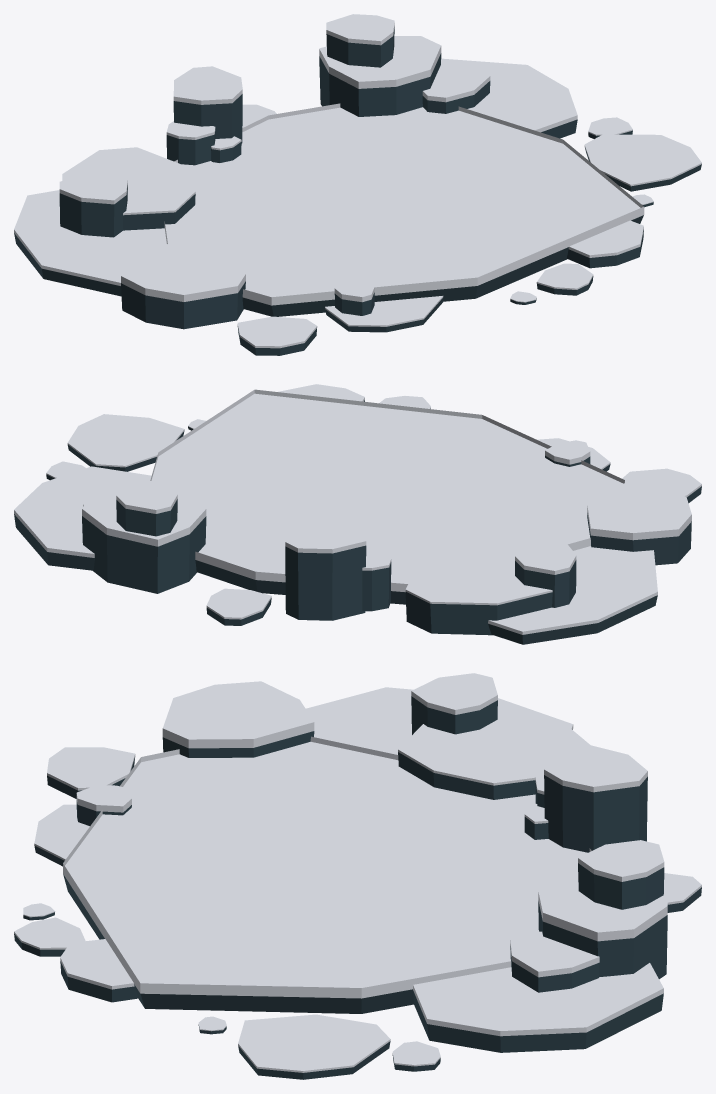
File: map_snow.fbx
3 views of the same model, one above another, from view 1: azimuth 30°, elevation 25°; view 2: azimuth 150°, elevation 25°; view 3: azimuth 270°, elevation 25° (orthographic). The views are drawn at different scales.
Parts seen in each view (by area): view 1: Plane, Plane.009, Plane.003, Plane.010, Plane.004, Plane.001, Plane.008, Plane.005, Plane.021, Plane.020, Plane.022, Plane.012 (+8 smaller); view 2: Plane, Plane.004, Plane.003, Plane.010, Plane.005, Plane.009, Plane.001, Plane.008, Plane.021, Plane.020, Plane.022, Plane.018 (+7 smaller); view 3: Plane, Plane.001, Plane.004, Plane.005, Plane.009, Plane.010, Plane.008, Plane.003, Plane.020, Plane.021, Plane.011, Plane.022 (+8 smaller).
Part boxes in pixels (x1,y1,x2,y2): Plane: (164, 107, 644, 316); Plane.009: (121, 244, 245, 329); Plane.003: (14, 190, 166, 296); Plane.010: (319, 36, 441, 116); Plane.004: (62, 147, 195, 230); Plane.001: (441, 58, 577, 138); Plane.008: (584, 134, 701, 191); Plane.005: (173, 66, 242, 143); Plane.021: (59, 173, 127, 237); Plane.020: (326, 14, 394, 67); Plane.022: (164, 103, 644, 301); Plane.012: (325, 296, 443, 332); Plane: (151, 393, 622, 604); Plane.004: (405, 544, 552, 635); Plane.003: (488, 546, 657, 644); Plane.010: (82, 493, 206, 593); Plane.005: (285, 518, 366, 620); Plane.009: (587, 481, 691, 565); Plane.001: (14, 466, 151, 570); Plane.008: (67, 414, 184, 471); Plane.021: (515, 542, 576, 607); Plane.020: (116, 481, 177, 536); Plane.022: (150, 389, 624, 587); Plane.018: (206, 588, 271, 625); Plane: (63, 741, 587, 1013); Plane.001: (413, 963, 663, 1052); Plane.004: (398, 705, 589, 799); Plane.005: (544, 744, 647, 852); Plane.009: (162, 681, 314, 757); Plane.010: (538, 870, 667, 979); Plane.008: (238, 1014, 390, 1079); Plane.003: (306, 687, 573, 754); Plane.020: (578, 840, 664, 909); Plane.021: (411, 673, 497, 734); Plane.011: (510, 931, 599, 992); Plane.022: (63, 736, 591, 993).
Bounding box in the file's own units: 135 × 17.5 × 105.
